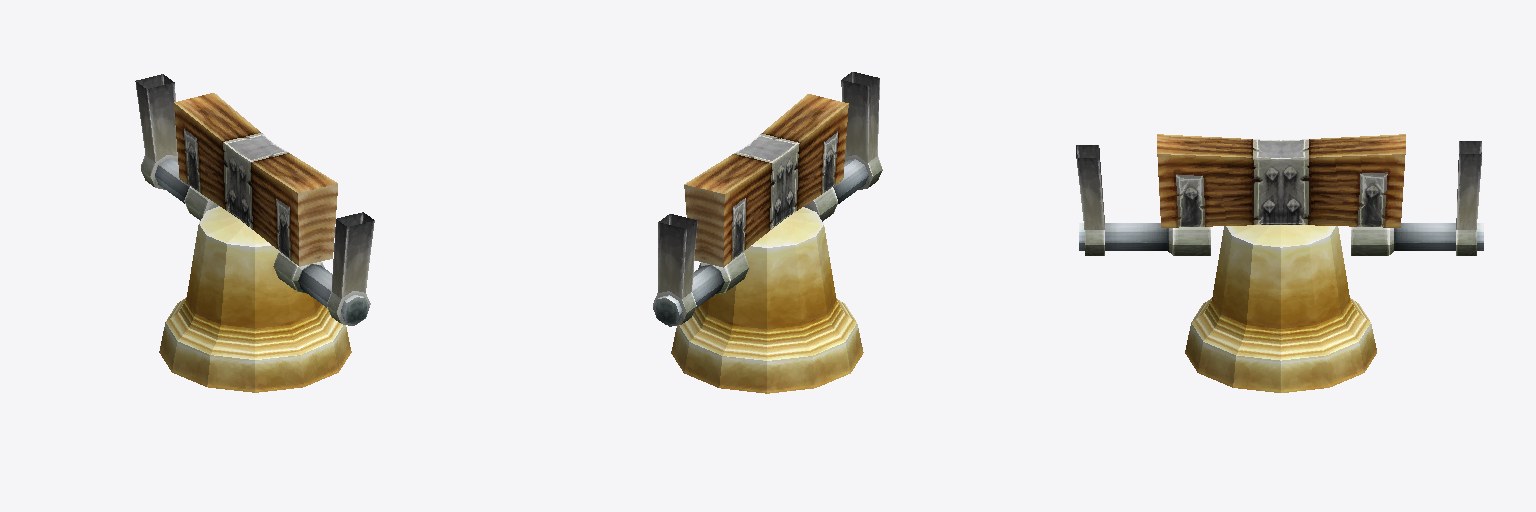
3 views of the same model, side by side, from view 1: azimuth 30°, elevation 25°; view 2: azimuth 150°, elevation 25°; view 3: azimuth 270°, elevation 25° (orthographic).
Visible parts, largest first — view 1: g_bellship0, g_bellship1; view 2: g_bellship0, g_bellship1; view 3: g_bellship0, g_bellship1.
Part boxes in pixels (bbox=[...]): g_bellship0: bbox=[135, 74, 374, 325]; g_bellship1: bbox=[159, 206, 351, 392]; g_bellship0: bbox=[653, 72, 882, 326]; g_bellship1: bbox=[671, 207, 863, 393]; g_bellship0: bbox=[1076, 134, 1483, 255]; g_bellship1: bbox=[1185, 225, 1376, 392].
Bounding box in the file's own units: 3.39 × 4.36 × 7.17.
Materials: 1 (1 with a texture image).